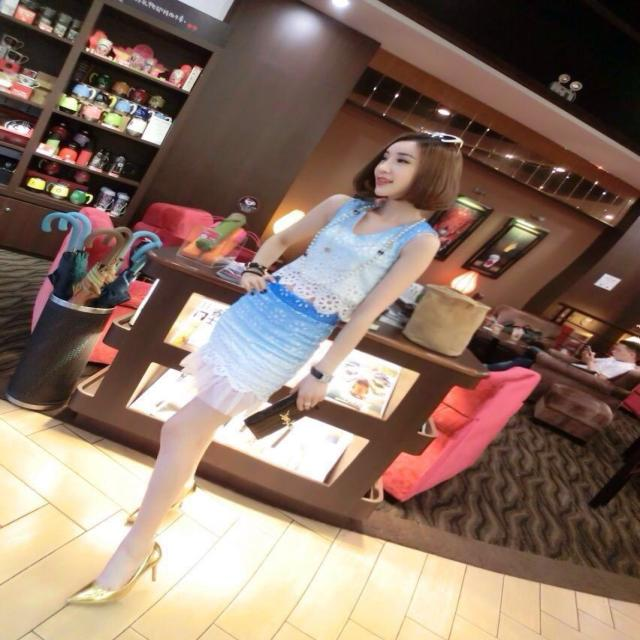skirt: (178, 277, 339, 421)
vest: (272, 198, 437, 322)
